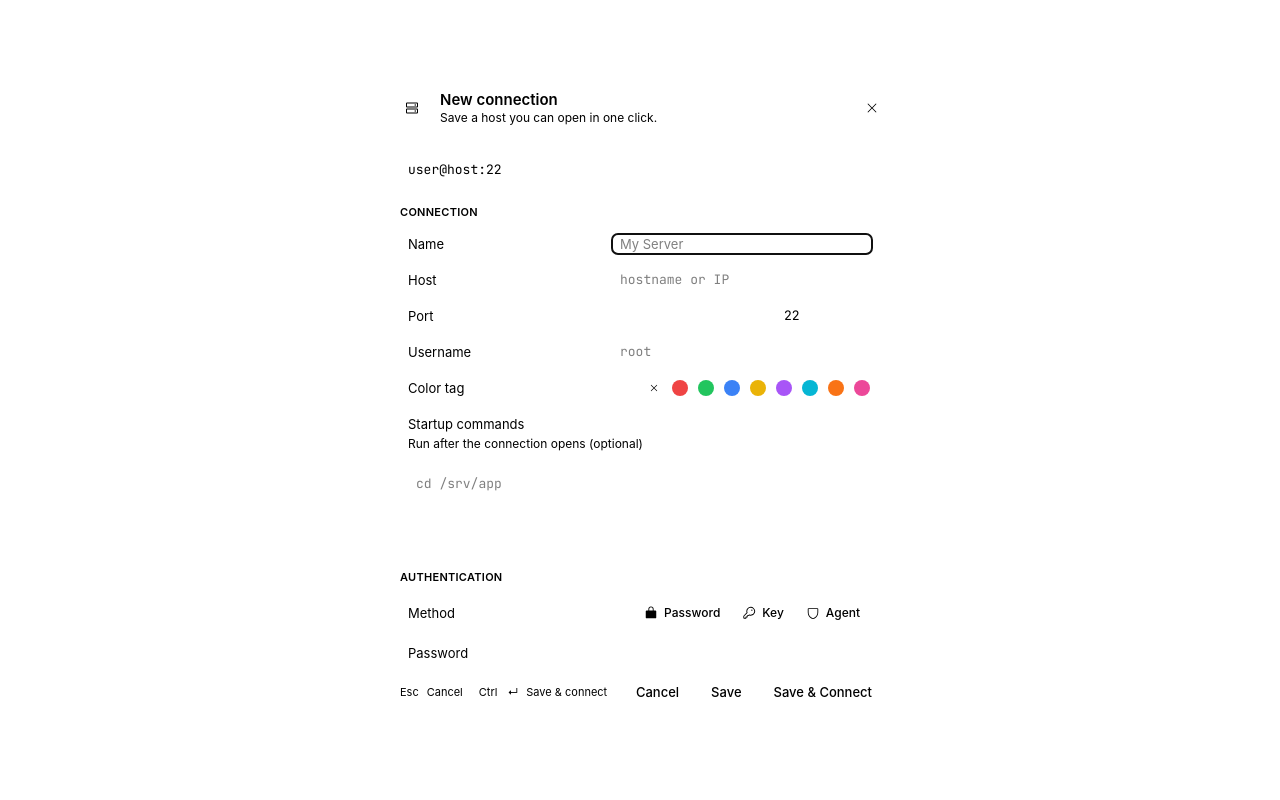
Test case: ConnectionDialog › switches the auth fields with the segmented control
Check: the dialog is shown, box x1=380 y1=80 x2=900 y2=720
What coordinates should you click on to do the following:
click the radio button labelled "Key"
I would click on:
 (763, 613)
Its box is x1=732 y1=601 x2=794 y2=625.
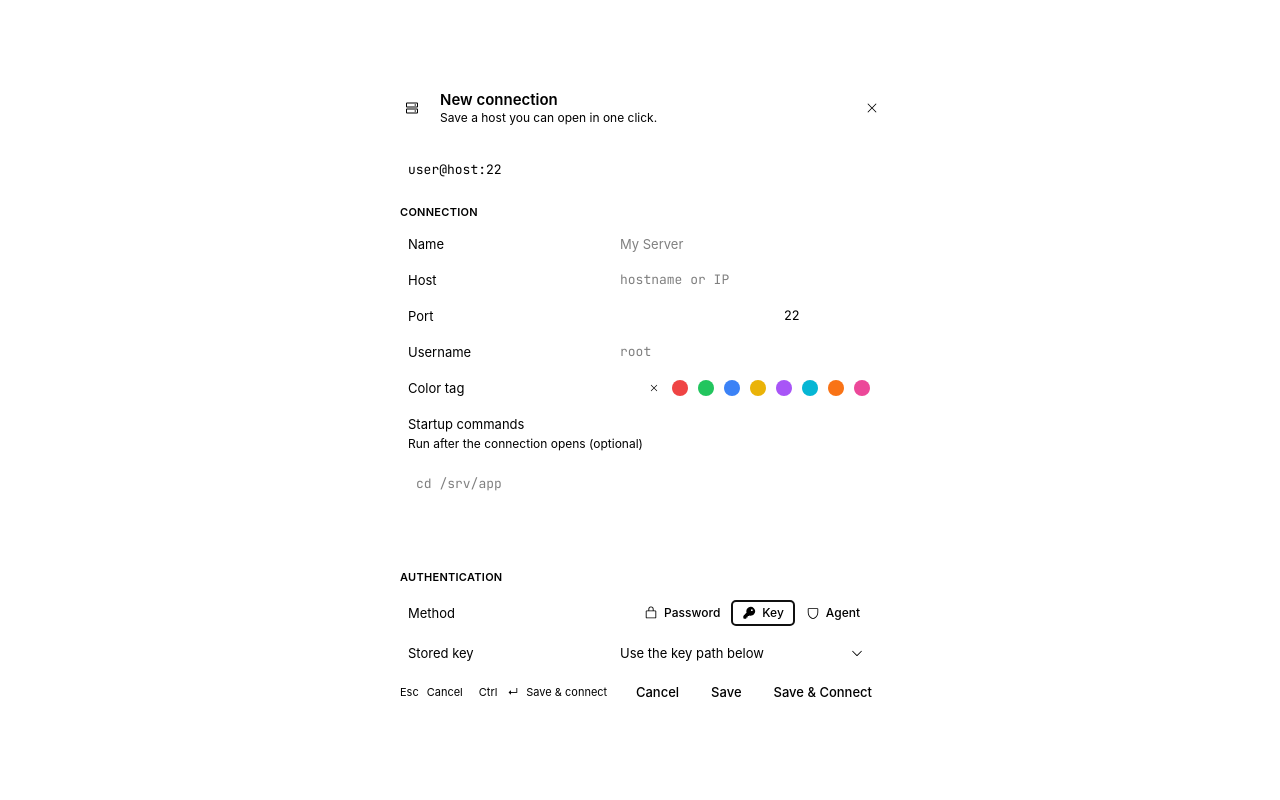
Check: the dropdown named "Stored key" reads "Use the key path below", box x1=612 y1=643 x2=872 y2=663
What coordinates should you click on to do the following:
click the radio button labelled "Agent"
I would click on:
 (833, 613)
Its box is x1=796 y1=601 x2=870 y2=625.
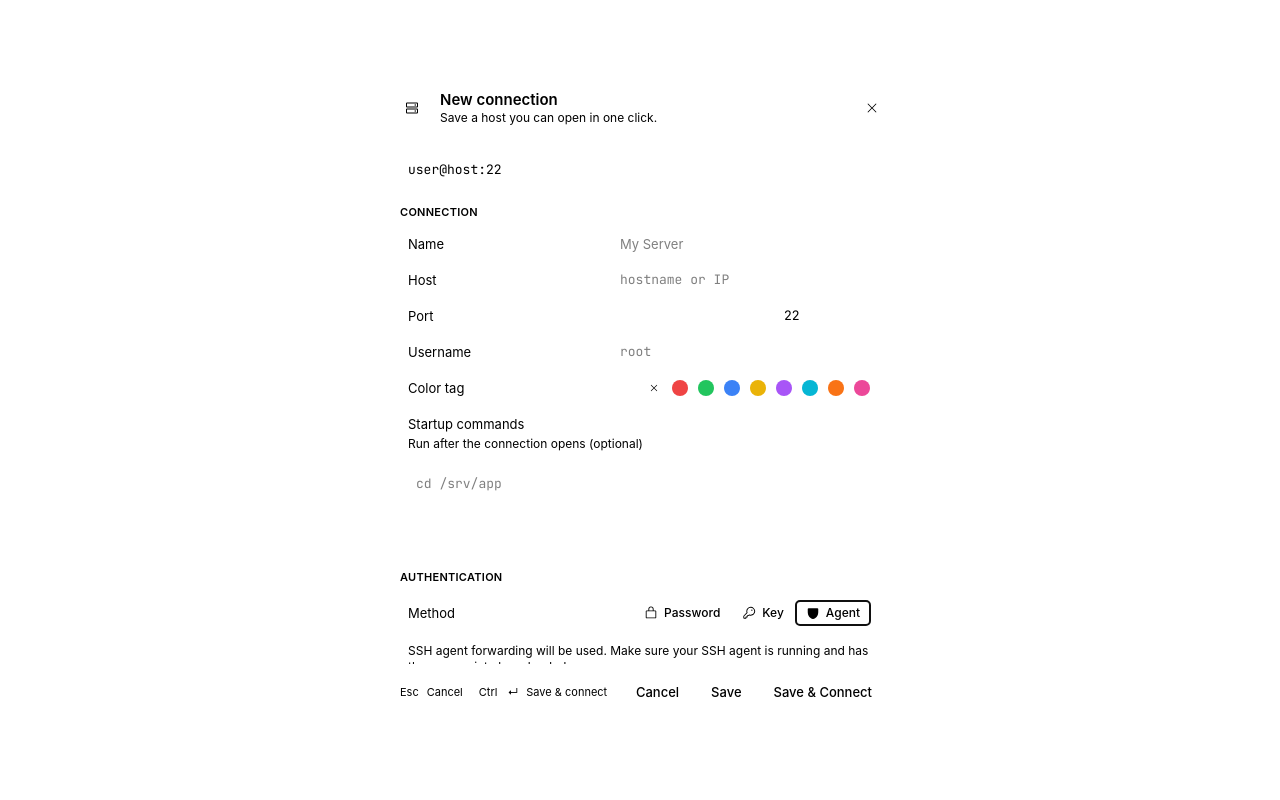
Check: the text "SSH agent forwarding will be used" is shown, box x1=408 y1=643 x2=868 y2=664
